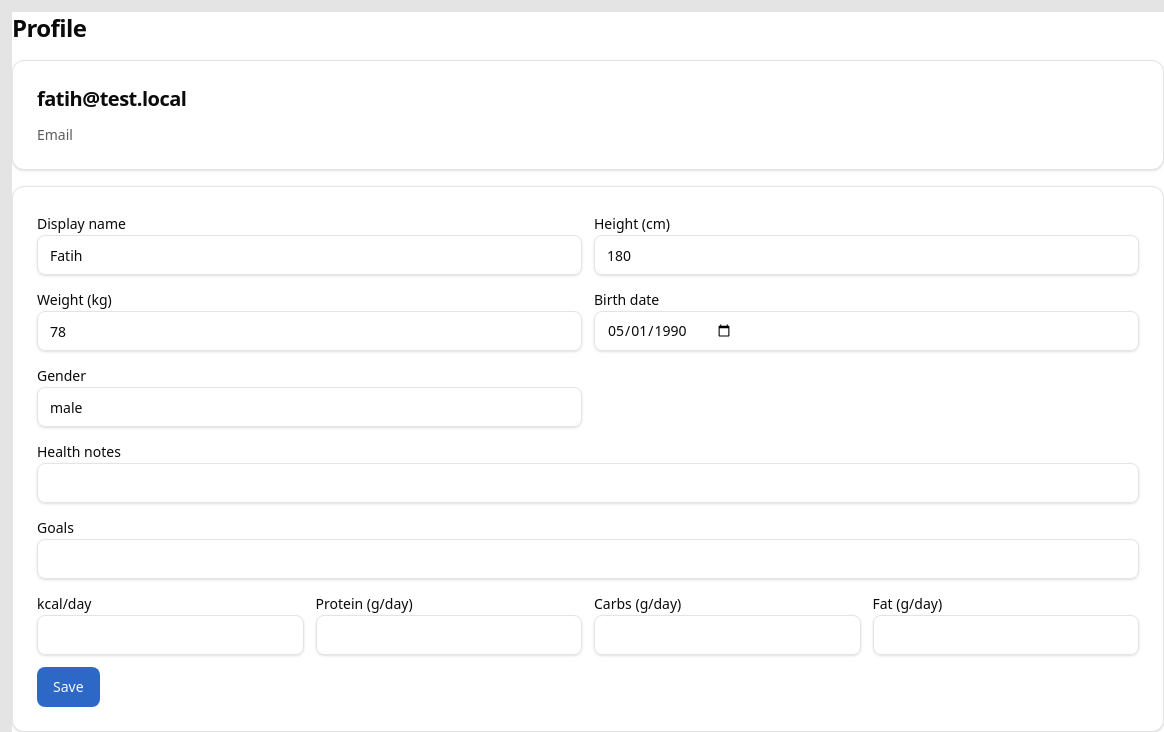
ProfileClient › posts updated values and shows the saved flash
The image size is (1164, 732).
Step 1. Replace the text in the field labelled "Display name" with "Fatih A" → (310,255), box [37,235,582,275]
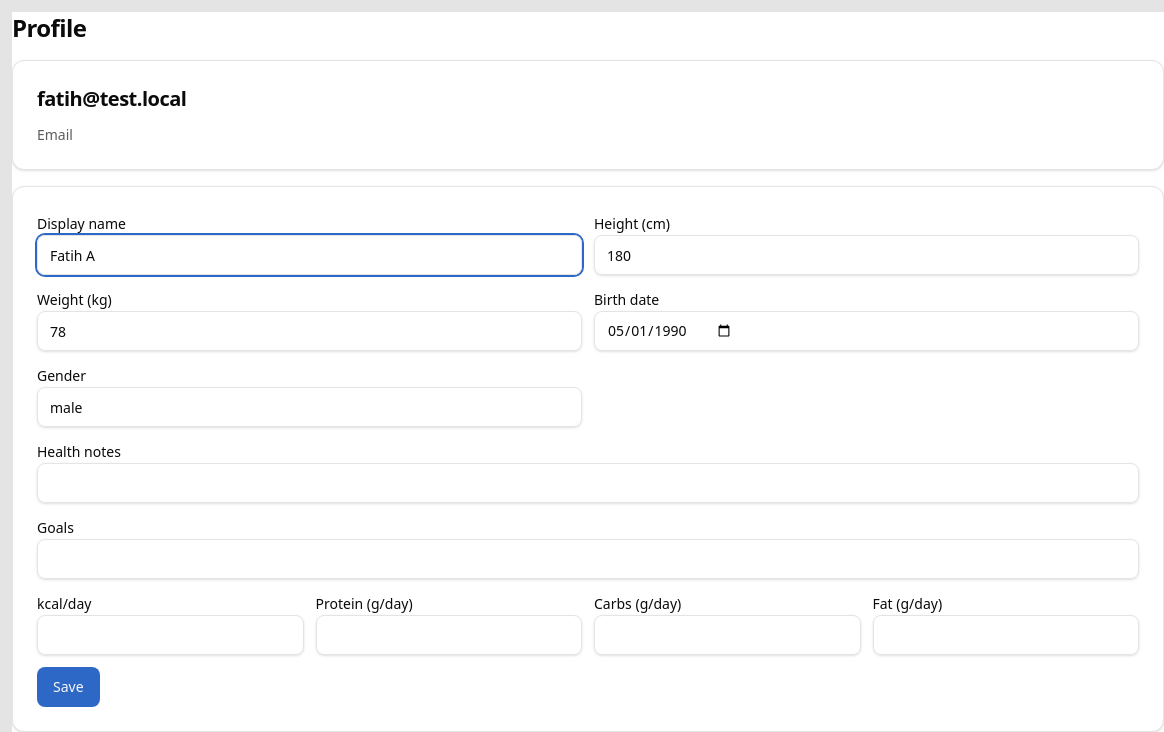
Step 2. Click the button "Save" → (68,687), box [37,667,100,707]
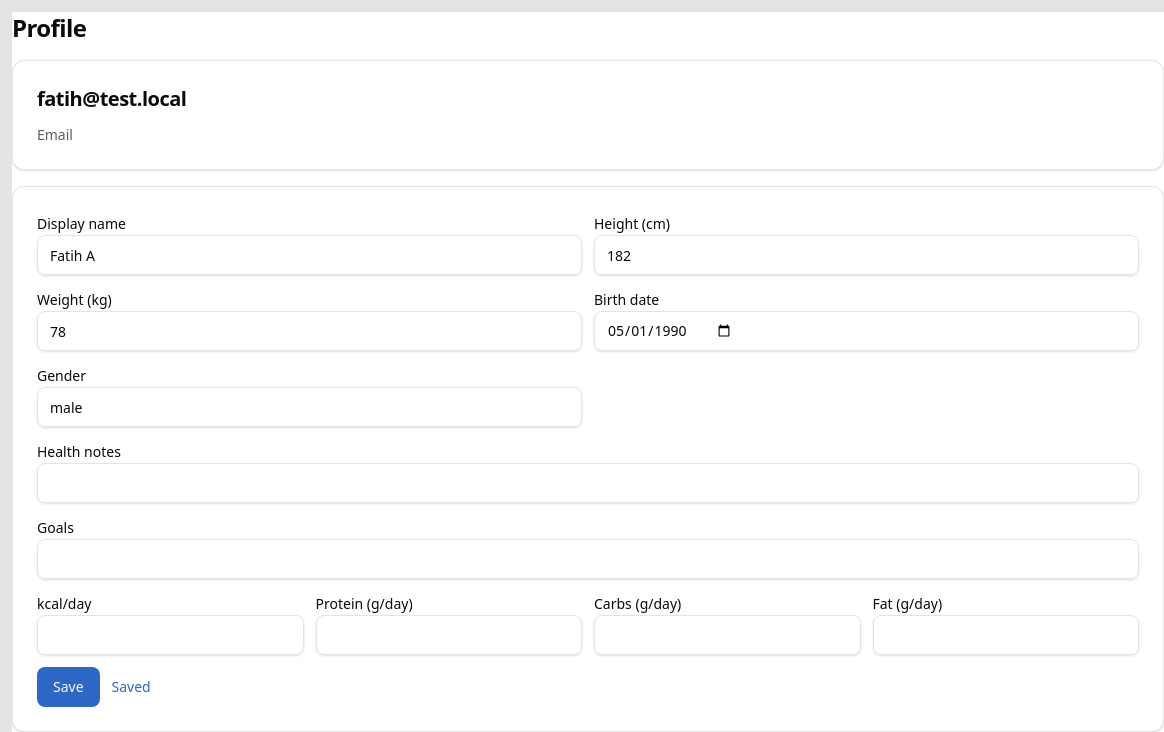
expect the text "Saved" is shown: met, box [112,677,151,697]
